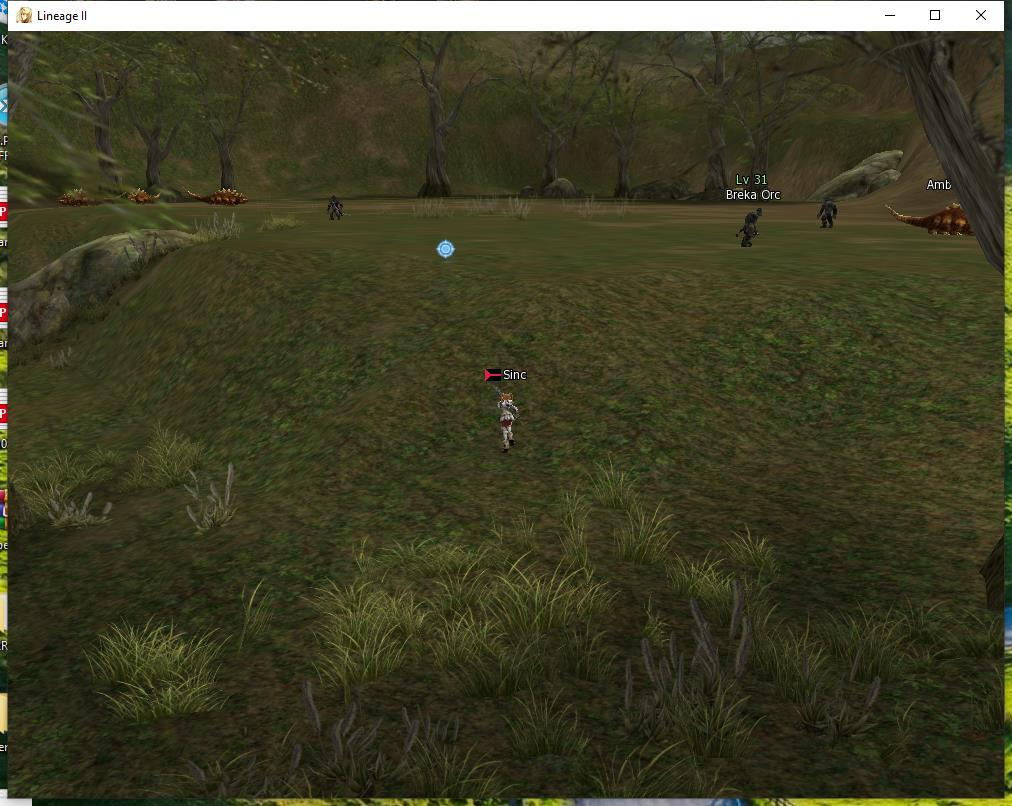monster: (890, 176, 985, 249), (724, 168, 782, 258), (183, 179, 246, 208), (52, 185, 103, 210), (319, 184, 347, 224), (816, 200, 840, 230), (119, 184, 158, 201)
